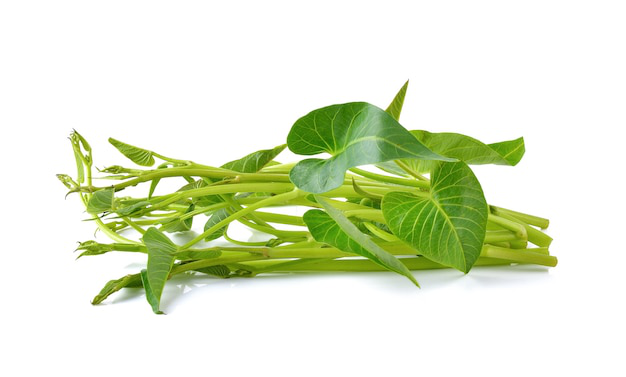Kangkung: (45, 59, 607, 347)
